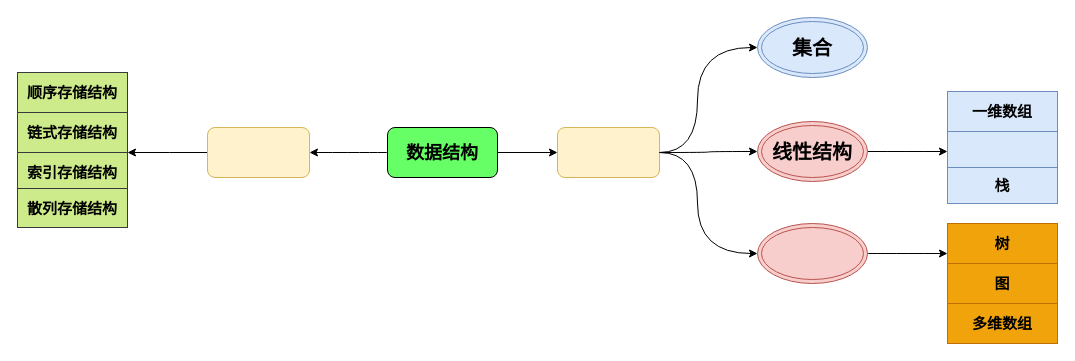
The diagram is 1075 pixels wide and 361 high, and some of its shapes have lost their labels. Each missing label, with the box of its shape:
存储结构: (206, 126, 310, 178)
逻辑结构: (556, 126, 660, 178)
队列: (946, 130, 1058, 168)
非线性结构: (756, 222, 868, 284)
